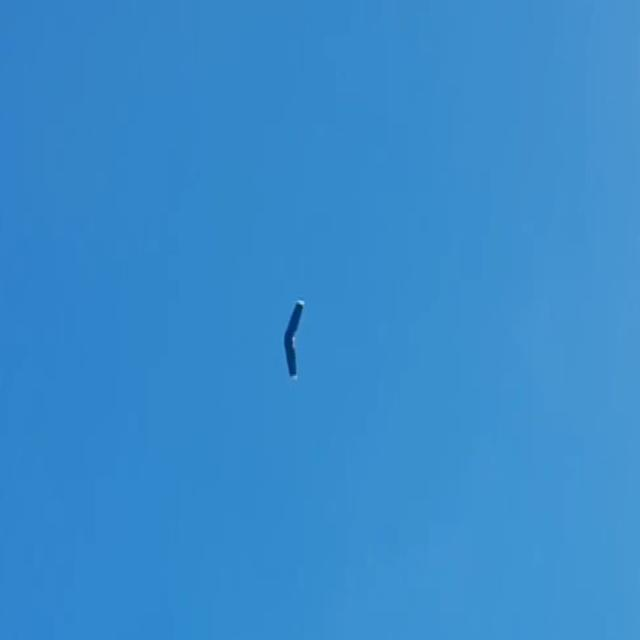iha: (283, 331, 305, 348)
